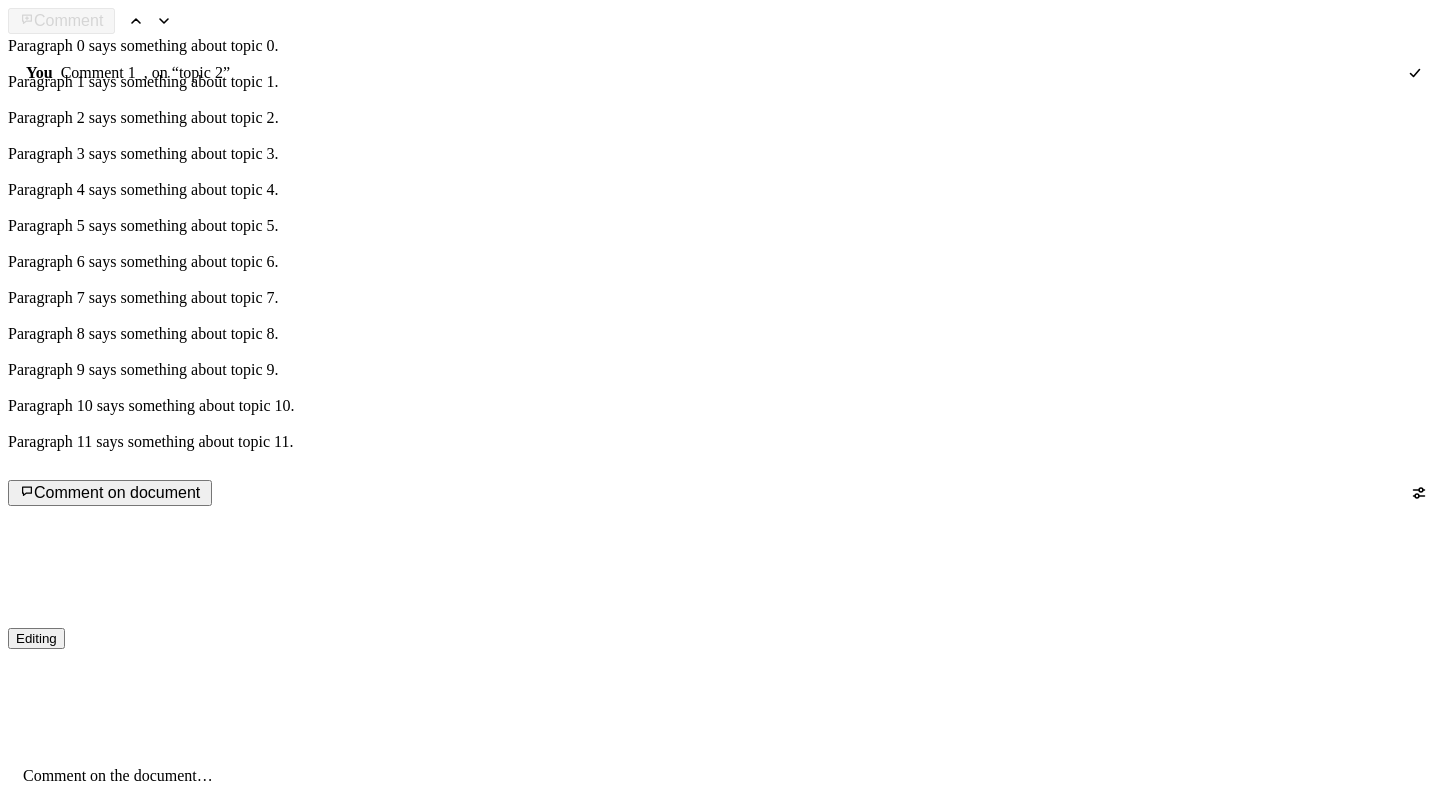
Test case: rail header (§11.4) › QA3: a quiet header: with nothing pending there is the one Comment button and a settings button, and no bulk actions
This screenshot has width=1440, height=810.
Later steps or results of the test are not shown.
Click the button named "Review settings" at (1419,493), box [1406,480,1432,506]
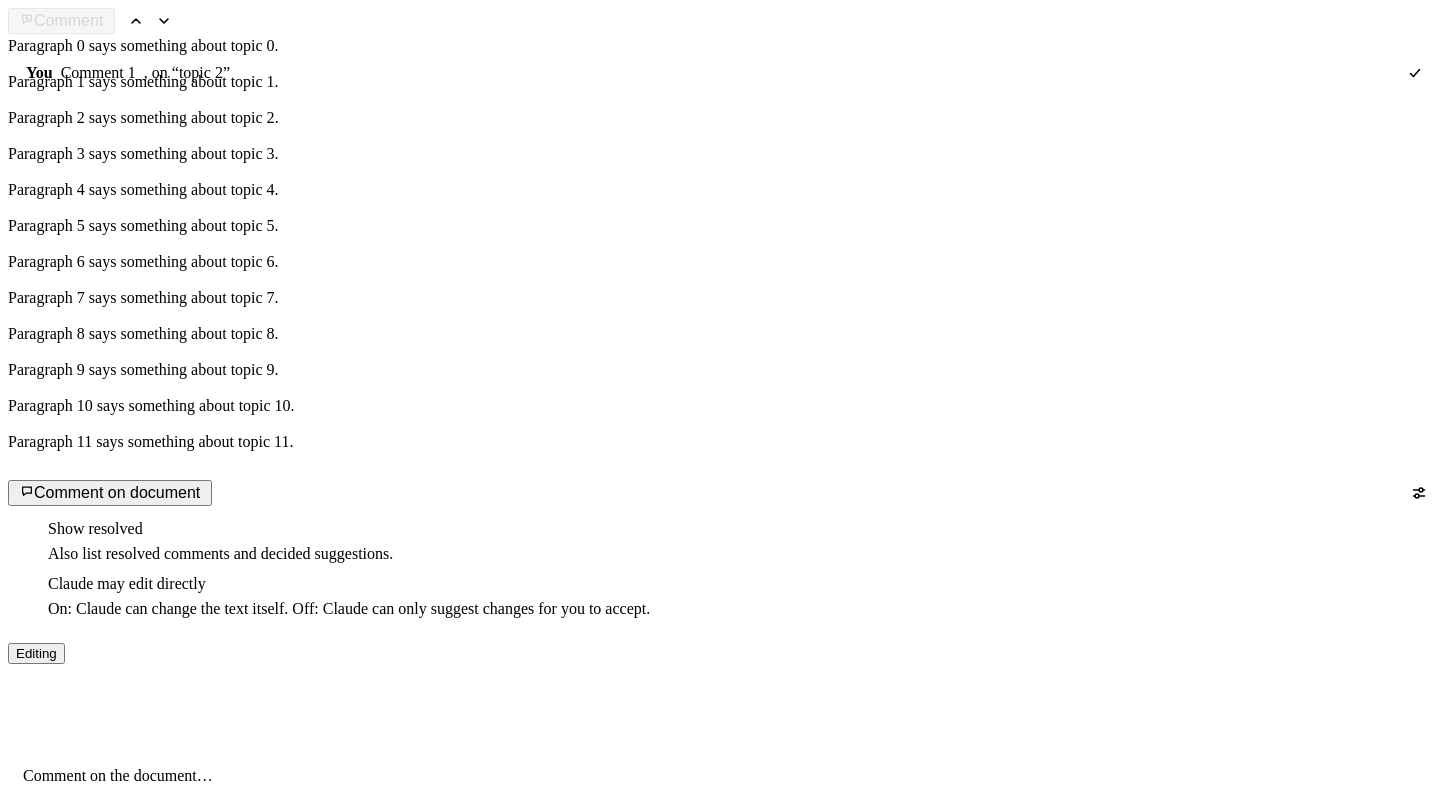
Expected: the element with class "mdr-rail-settings" shows "Also list resolved comments", [48,545,393,562]
Expected: the element with class "mdr-rail-settings" shows "Off: Claude can only suggest changes", [48,600,650,617]
